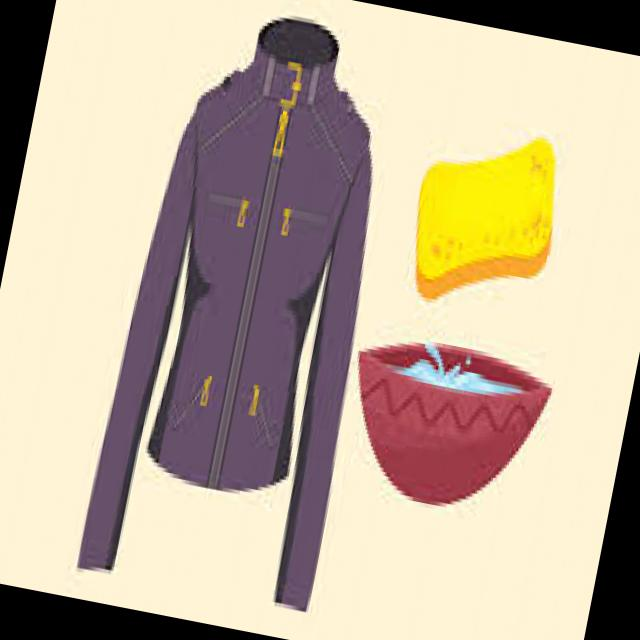Jacket: (110, 63, 420, 536)
